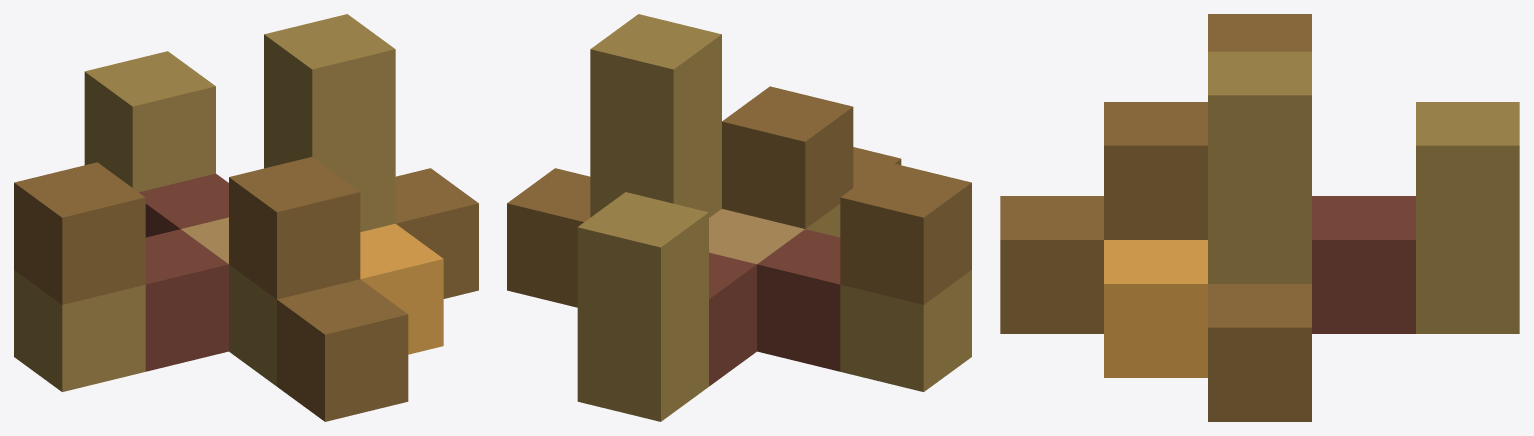
Rendered from Medieval Assets-340-Vegetation - Shrub - Desert Plant.obj.
3 renders of one model, left to right at view 1: azimuth 30°, elevation 25°; view 2: azimuth 150°, elevation 25°; view 3: azimuth 270°, elevation 25°, orthographic. The views are drawn at different scales.
Visible parts, largest first — view 1: Vegetation - Shrub - Desert Plant; view 2: Vegetation - Shrub - Desert Plant; view 3: Vegetation - Shrub - Desert Plant.
Part boxes in pixels (x1,y1,x2,y2): Vegetation - Shrub - Desert Plant: [14, 14, 478, 421]; Vegetation - Shrub - Desert Plant: [507, 14, 971, 421]; Vegetation - Shrub - Desert Plant: [1000, 14, 1519, 421].
Size of the model in its own units: 0.5 by 0.3 by 0.5.
Materials: 1 (1 with a texture image).
